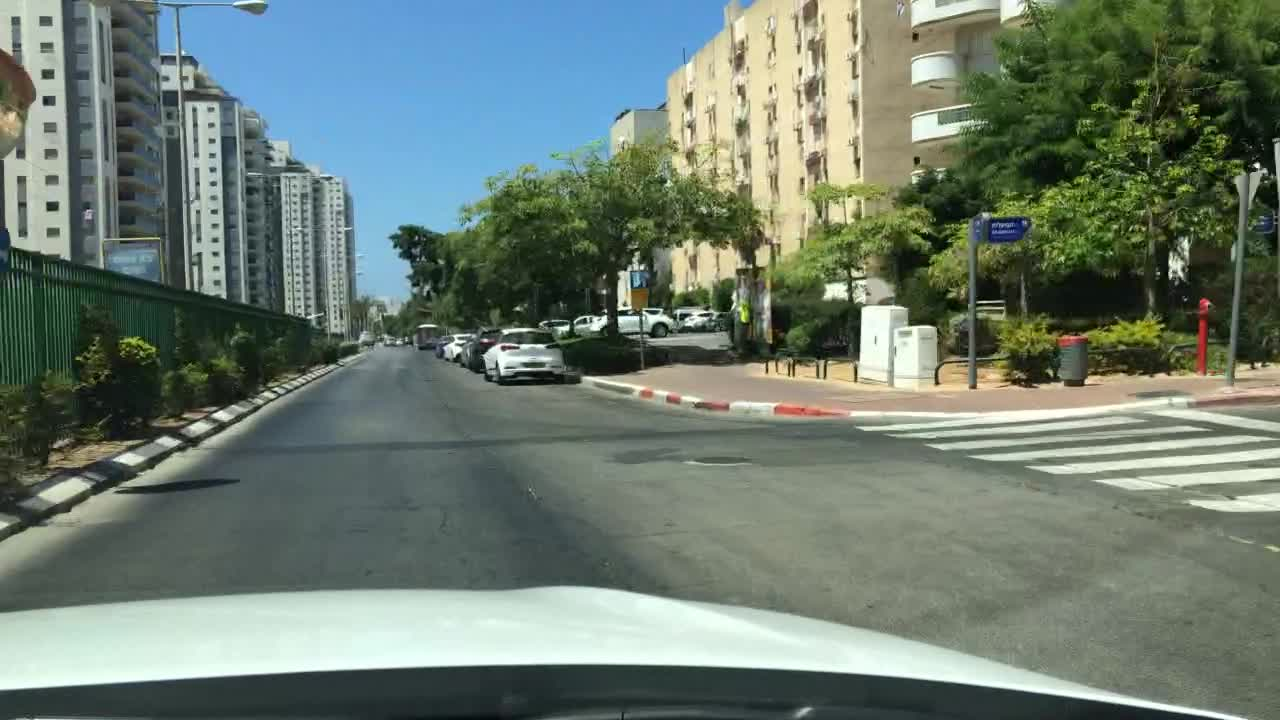bus: (414, 320, 440, 350)
car: (479, 323, 569, 384), (591, 306, 680, 336), (458, 325, 507, 374), (558, 313, 610, 336), (440, 331, 477, 363), (681, 308, 731, 331), (669, 301, 714, 321), (537, 314, 575, 336), (434, 331, 454, 360), (357, 328, 377, 346), (383, 333, 394, 348), (394, 333, 404, 348)
traffic sign: (99, 234, 163, 280), (1232, 169, 1263, 210), (988, 214, 1031, 243), (1252, 211, 1275, 235), (969, 214, 981, 243)
